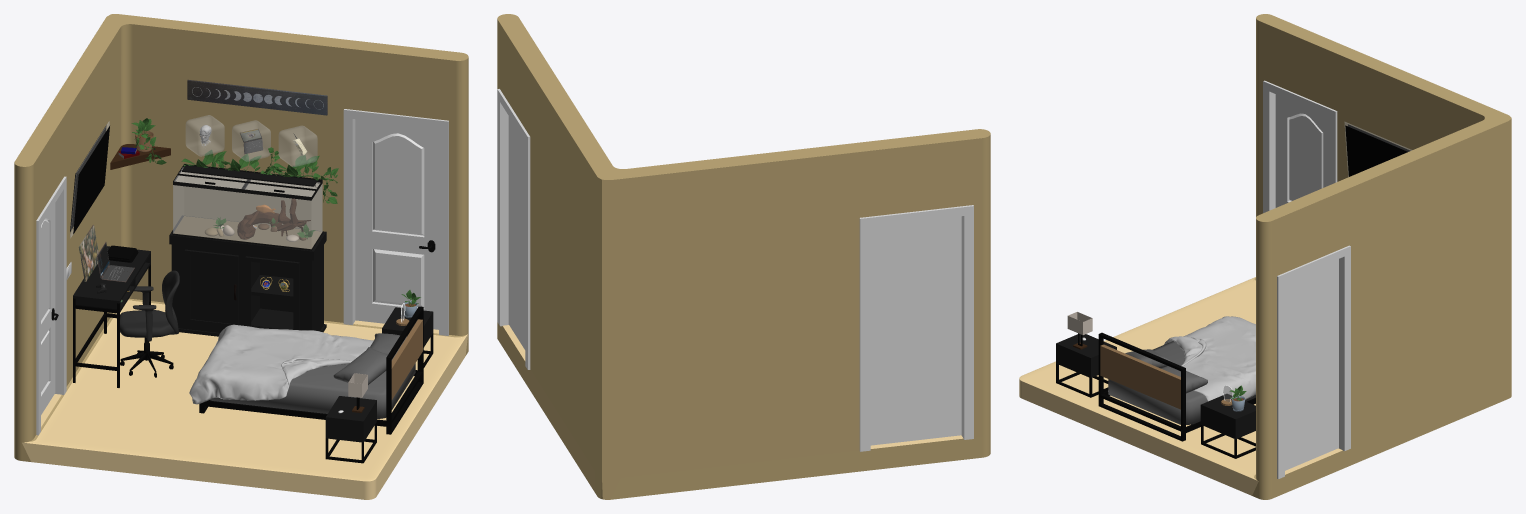
Rendered from finalRoom.glb.
3 renders of one model, left to right at view 1: azimuth 30°, elevation 25°; view 2: azimuth 150°, elevation 25°; view 3: azimuth 270°, elevation 25°, orthographic. The views are drawn at different scales.
Parts seen in each view (by area): view 1: fish tank glass, door.001, door frame.001, door frame, door, tv screen, showcase, showcase.002, showcase.001; view 2: fish tank glass, door, door frame, door frame.001, door.001; view 3: fish tank glass, door.001, door, door frame.001, door frame, tv screen.
Part boxes in pixels (bbox=[...]): fish tank glass: bbox=[14, 14, 468, 499]; door.001: bbox=[355, 119, 438, 329]; door frame.001: bbox=[343, 109, 448, 335]; door frame: bbox=[36, 176, 66, 435]; door: bbox=[41, 203, 58, 414]; tv screen: bbox=[73, 126, 109, 233]; showcase: bbox=[186, 115, 224, 156]; showcase.002: bbox=[279, 126, 317, 166]; showcase.001: bbox=[232, 120, 270, 161]; fish tank glass: bbox=[497, 14, 990, 499]; door: bbox=[870, 216, 961, 445]; door frame: bbox=[859, 205, 973, 451]; door frame.001: bbox=[497, 89, 530, 369]; door.001: bbox=[508, 116, 525, 349]; fish tank glass: bbox=[1019, 14, 1511, 499]; door.001: bbox=[1285, 259, 1338, 470]; door: bbox=[1275, 94, 1328, 207]; door frame.001: bbox=[1277, 245, 1350, 479]; door frame: bbox=[1263, 80, 1337, 213]; tv screen: bbox=[1345, 125, 1407, 176].
Bounding box in the file's own units: 11.73 × 7.31 × 11.73.
Materials: 63 (7 with a texture image).
